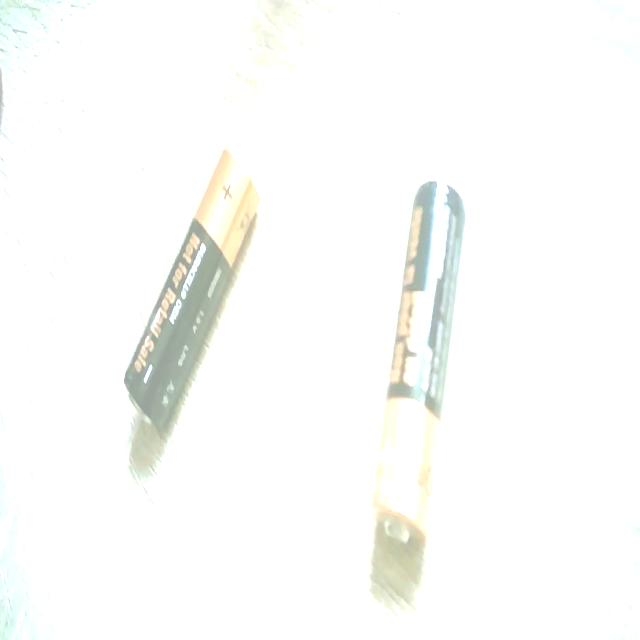AA: (122, 146, 260, 438), (369, 176, 467, 548)
